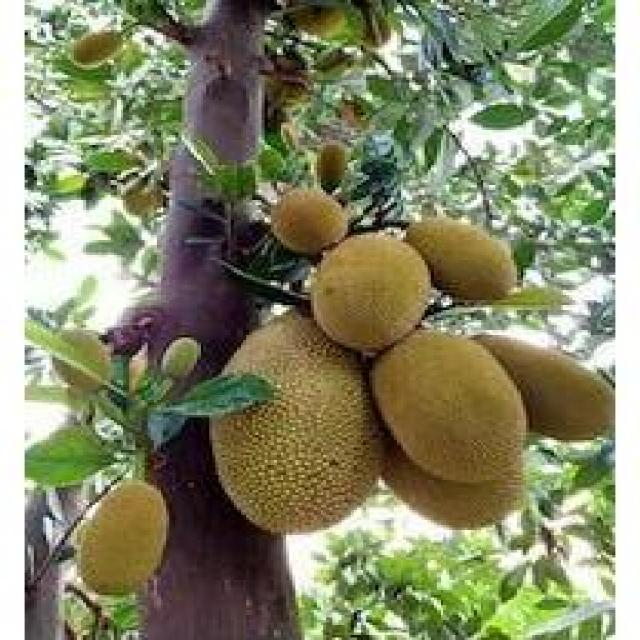Fruit: (188, 290, 403, 568), (348, 310, 548, 562), (52, 462, 188, 622)
